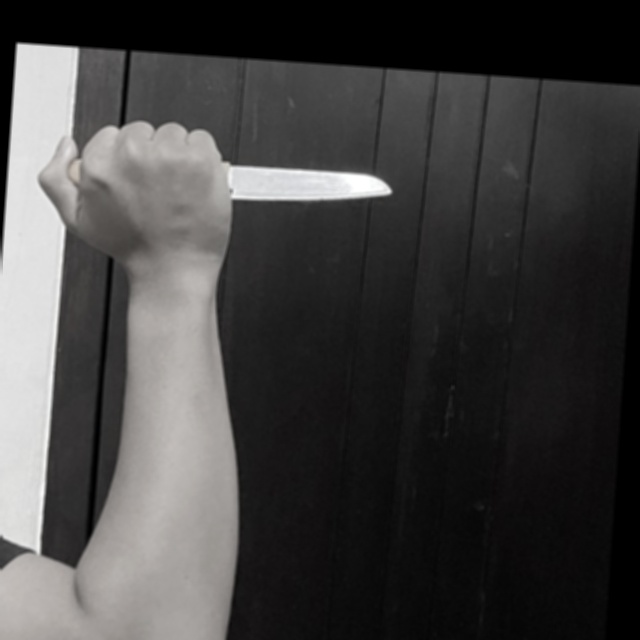Sharp-Object: (65, 150, 394, 211)
